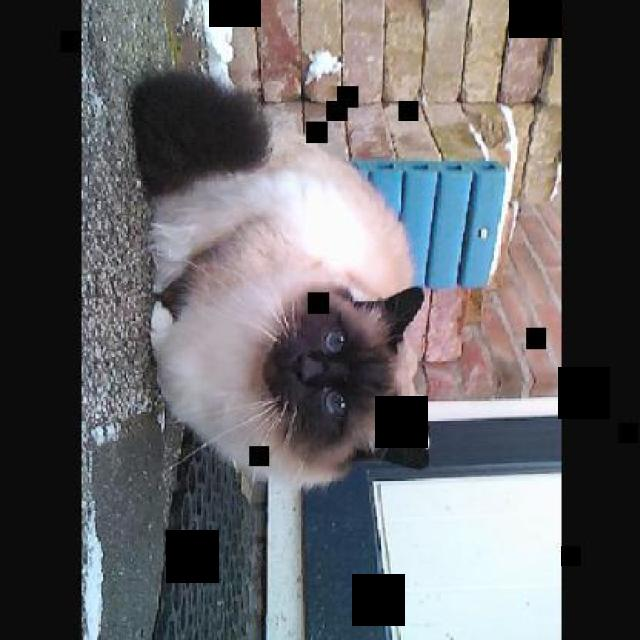unauthorized: (126, 68, 428, 495)
